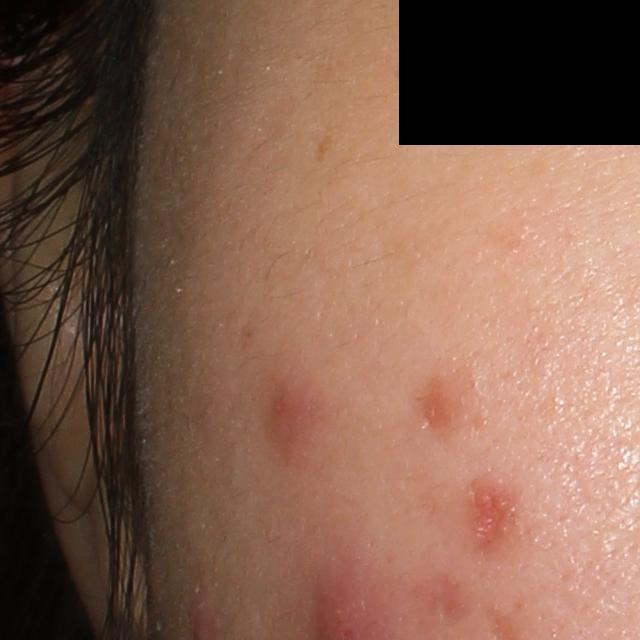melasma: (313, 134, 337, 163)
papule: (264, 374, 324, 457)
